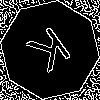K: (25, 25, 80, 82)
